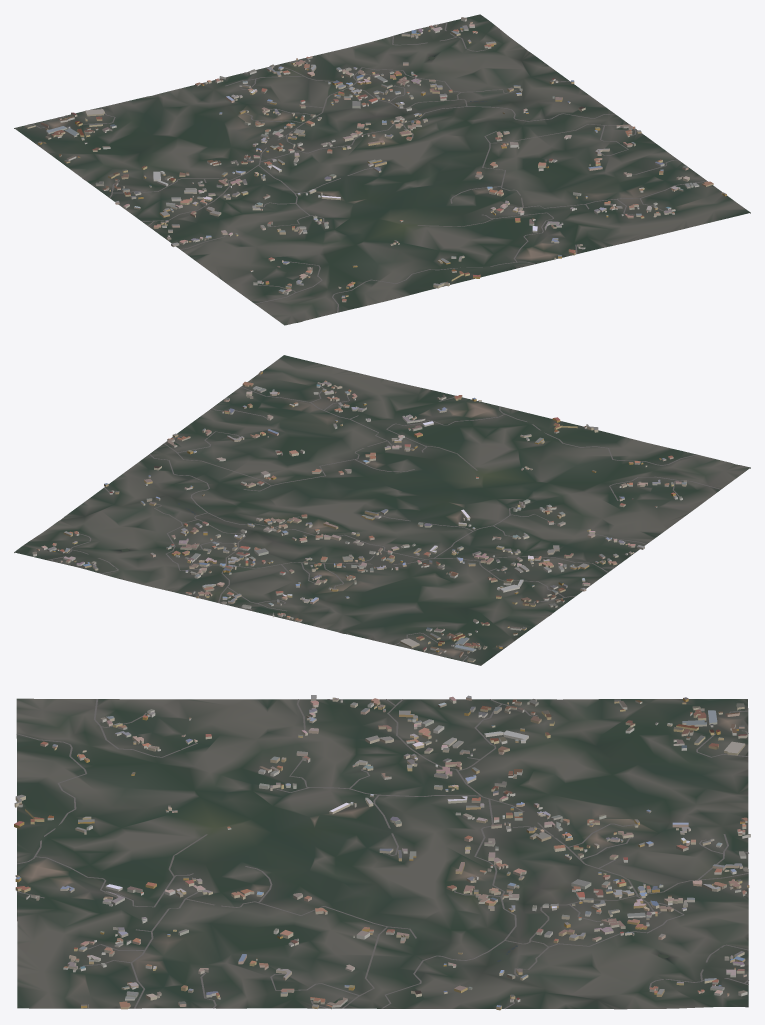
3 renders of one model, top to bottom at view 1: azimuth 30°, elevation 25°; view 2: azimuth 150°, elevation 25°; view 3: azimuth 270°, elevation 25°, orthographic. The views are drawn at different scales.
Visible parts, largest first — view 1: ground, buildings, roads; view 2: ground, buildings, roads; view 3: ground, buildings, roads.
Part boxes in pixels (bbox=[...]): ground: bbox=[14, 14, 750, 325]; buildings: bbox=[25, 17, 726, 302]; roads: bbox=[32, 22, 707, 312]; ground: bbox=[14, 355, 750, 665]; buildings: bbox=[32, 371, 686, 662]; roads: bbox=[47, 386, 721, 661]; ground: bbox=[16, 698, 748, 1009]; buildings: bbox=[14, 695, 750, 1010]; roads: bbox=[16, 699, 748, 1008].
Bounding box in the file's own units: 1409 × 16.73 × 1413.
